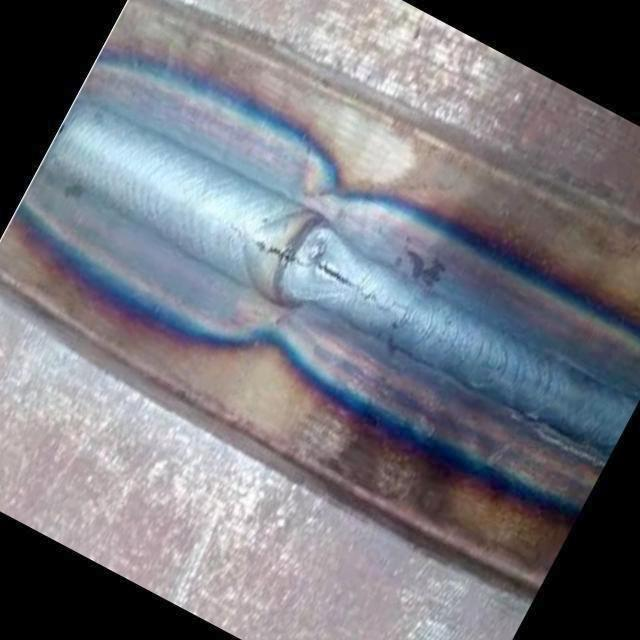defect: (246, 235, 412, 326)
